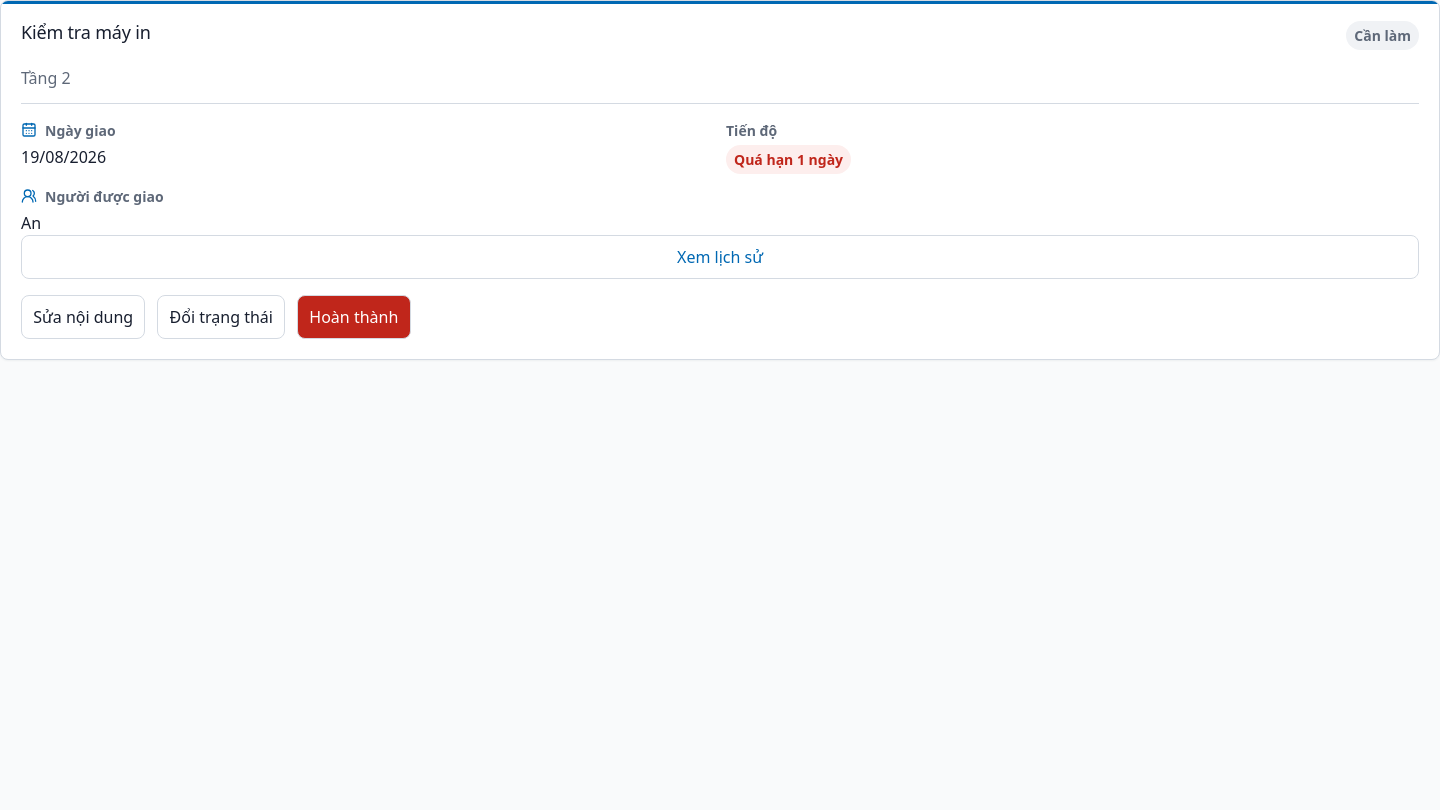
Test: Task lifecycle forms › renders allowed nonterminal actions and freezes completed cards
The width and height of the screenshot is (1440, 810).
Expected: the button "Đổi trạng thái" is shown, 157,295 -> 285,339
Click the button "Hoàn thành": (354, 317) 297,295 -> 410,339
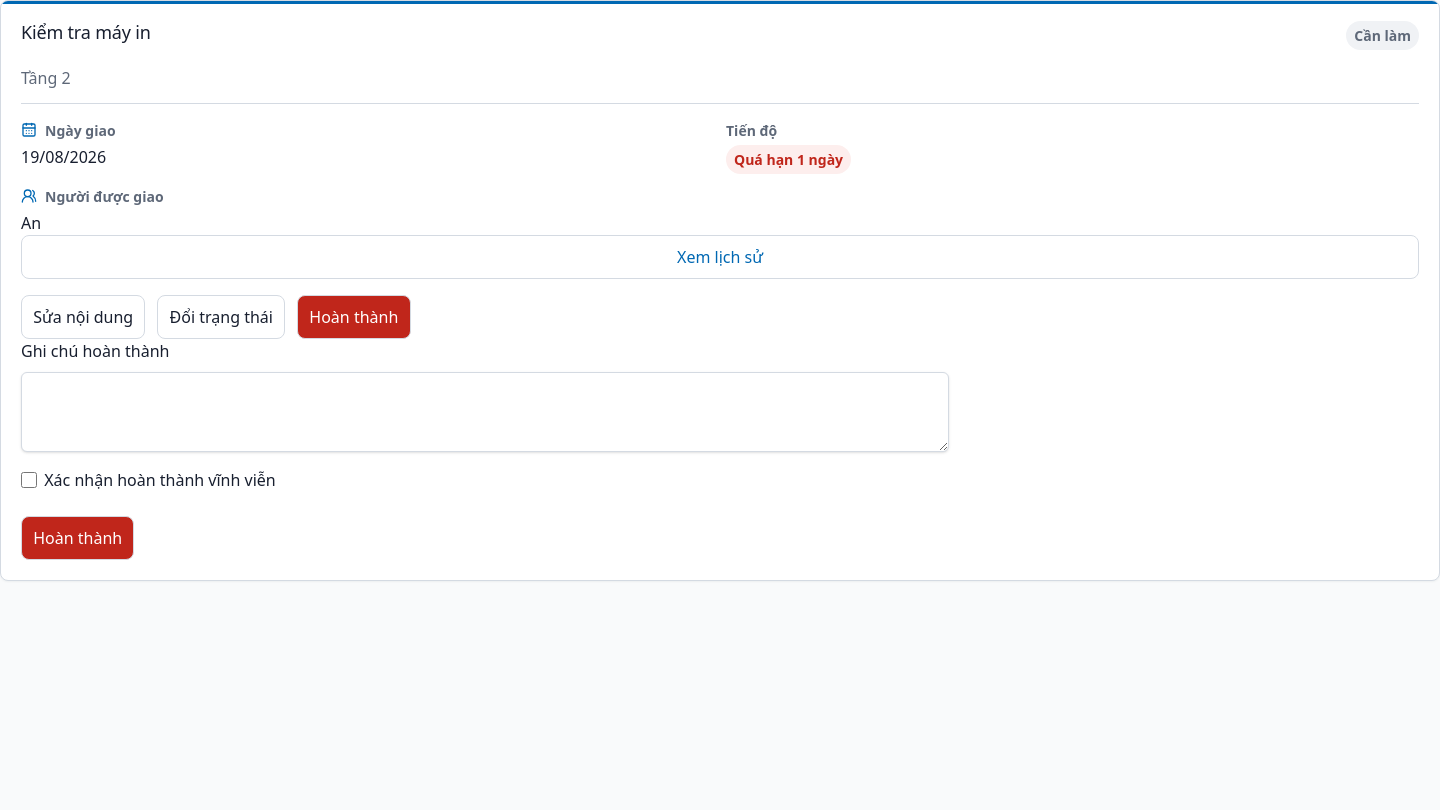
Expected: the form "Ghi chú hoàn thành Xác nhận hoàn thành vĩnh viễn Hoàn thành" is shown, 21,339 -> 949,560
